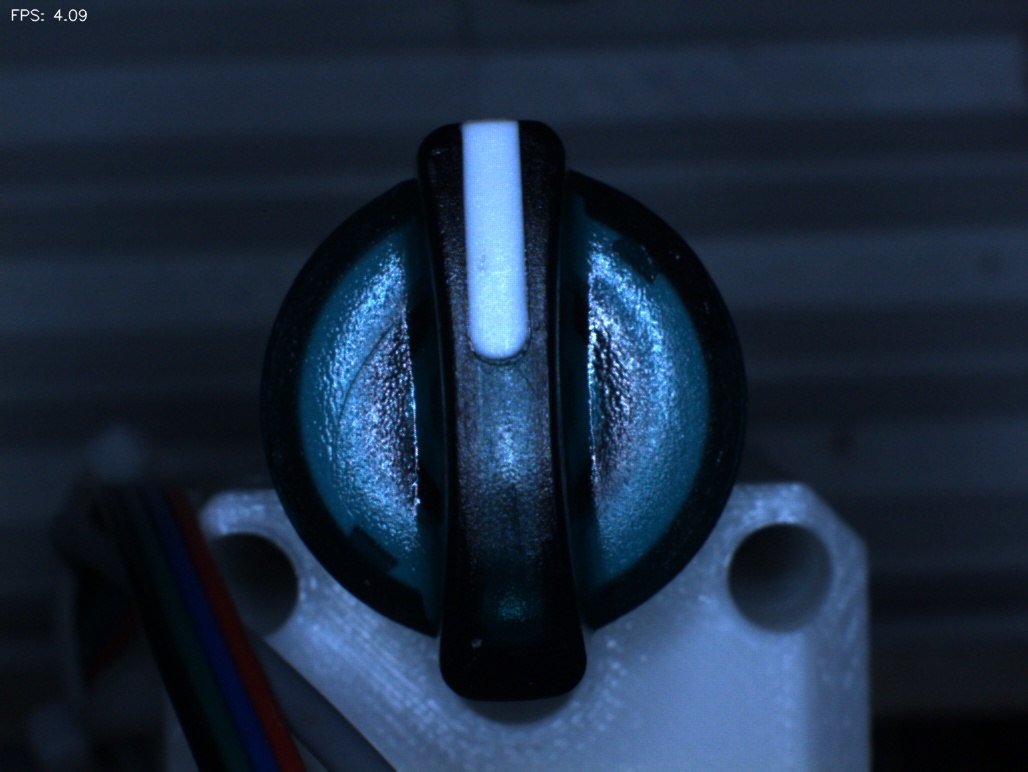PointNoir: (456, 233, 520, 304)
